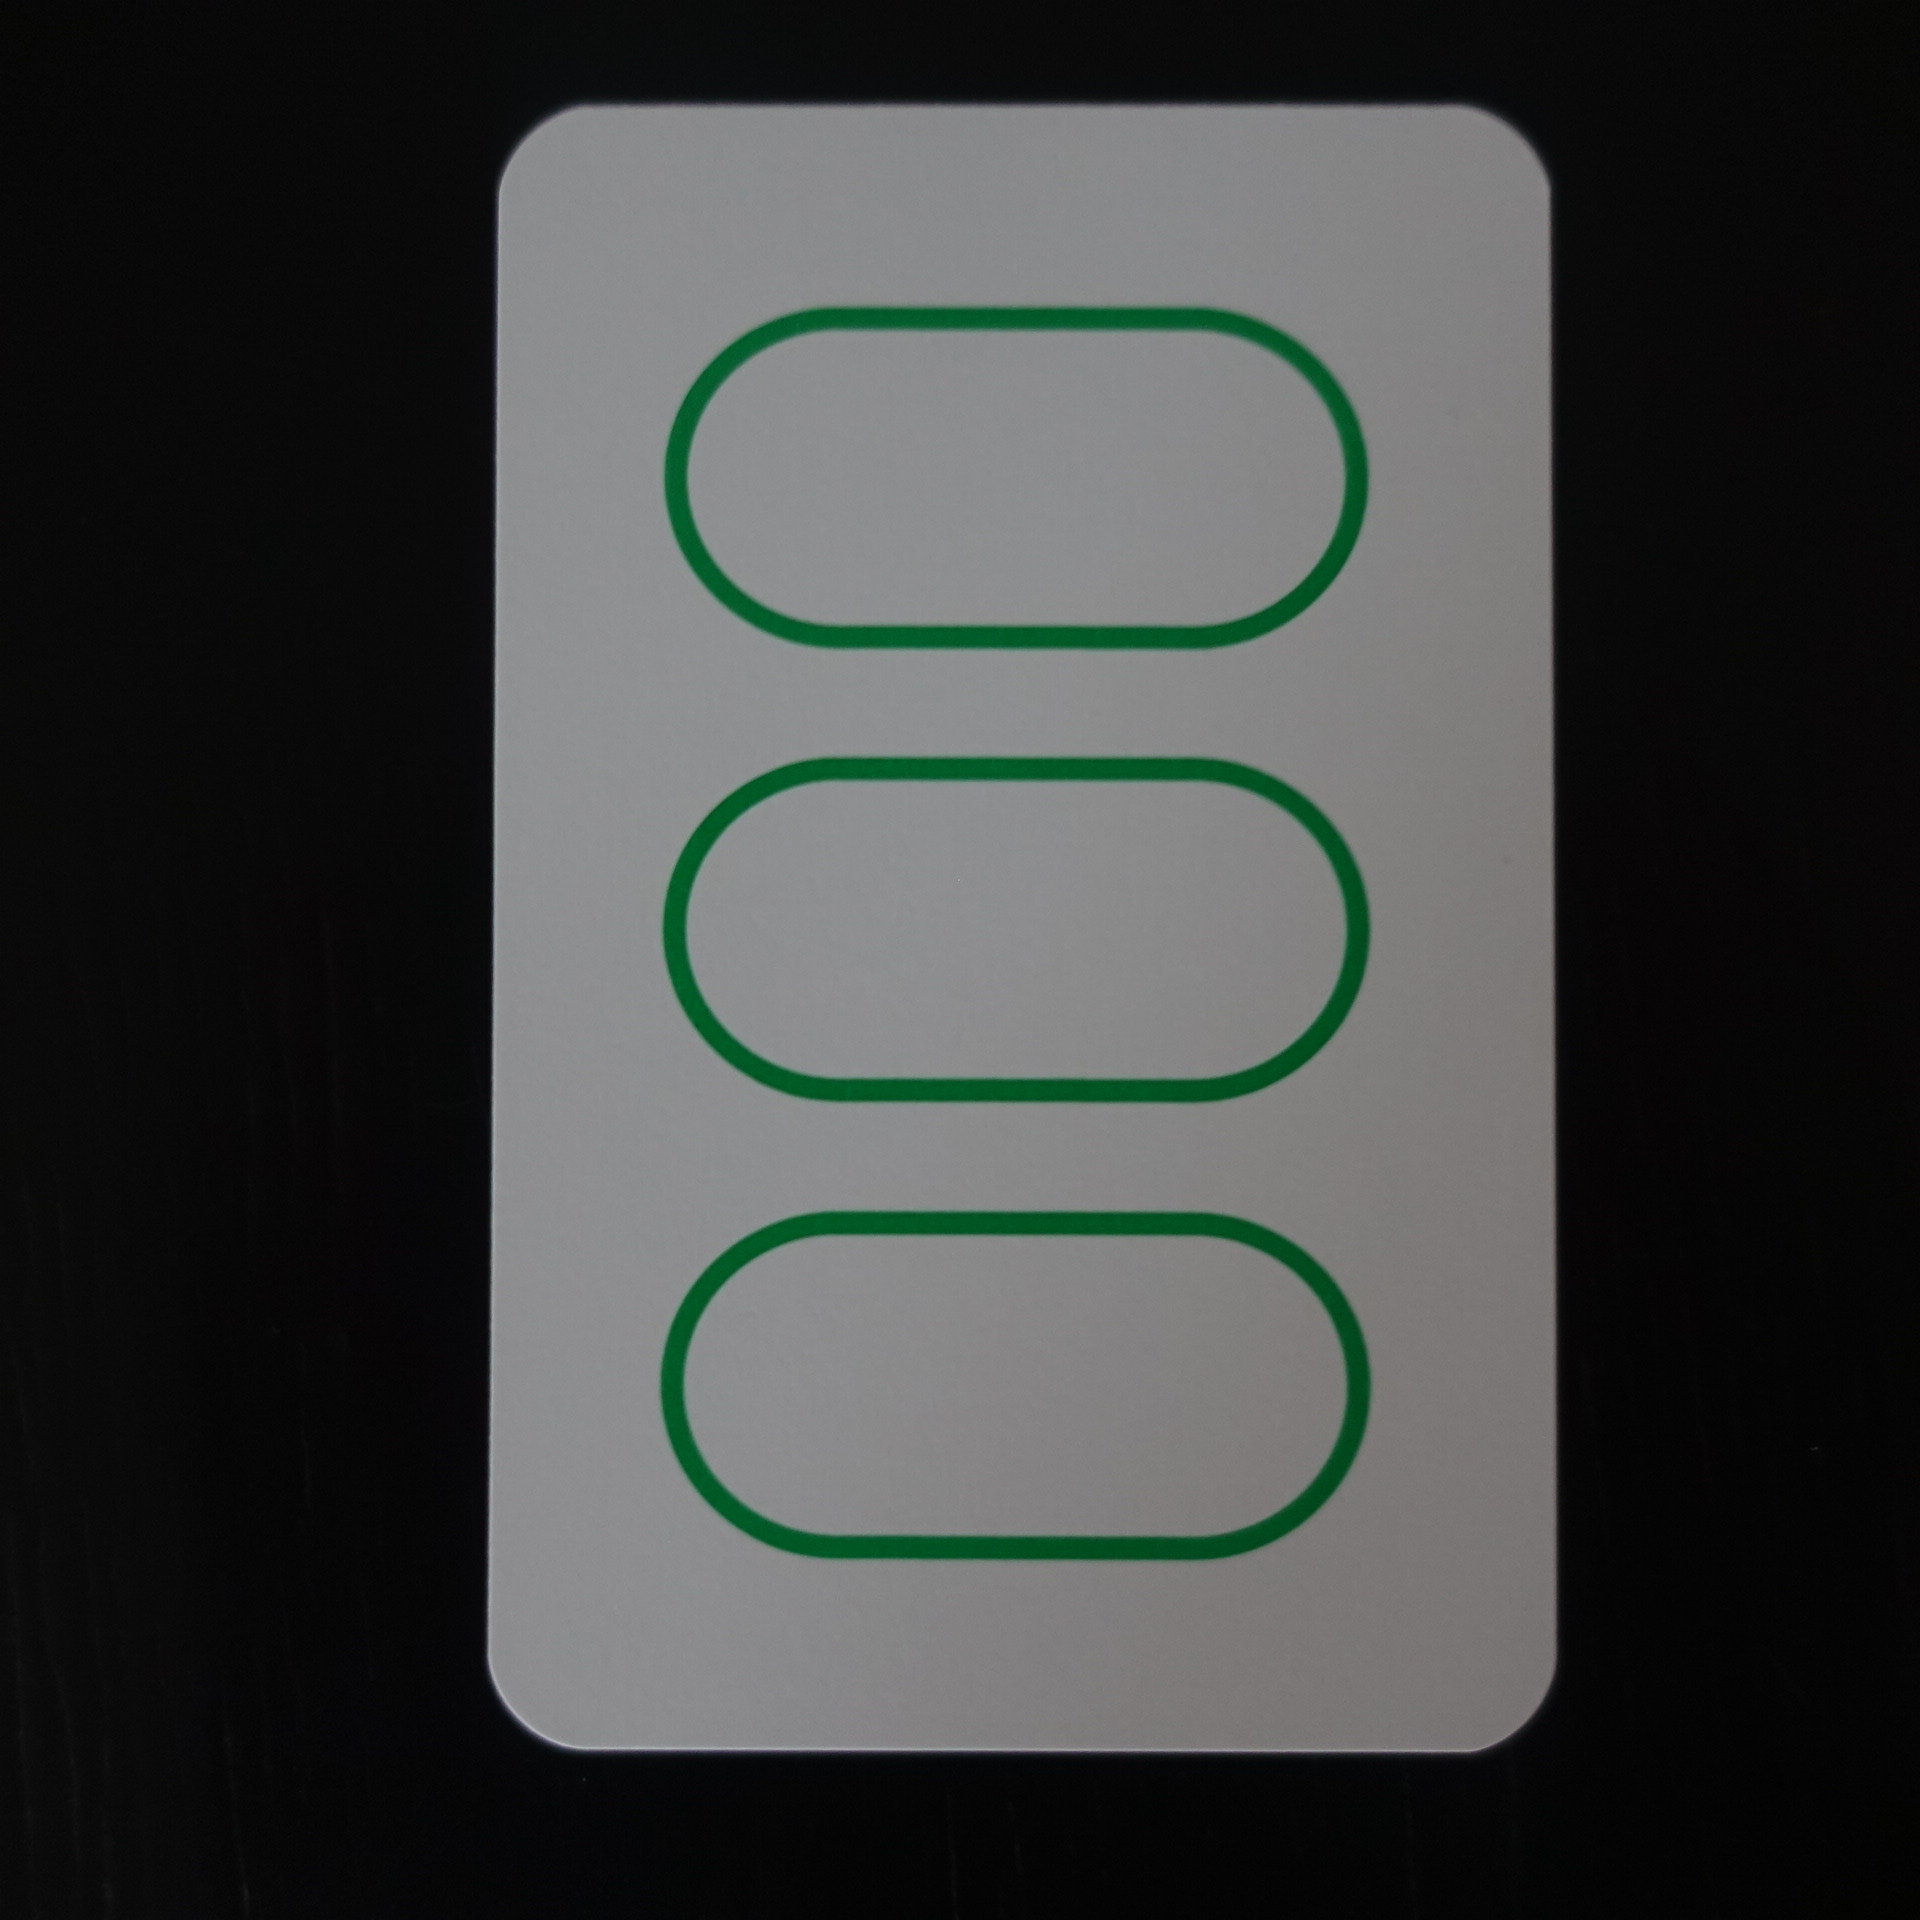c-3-u-o-g: (447, 83, 1602, 1785)
